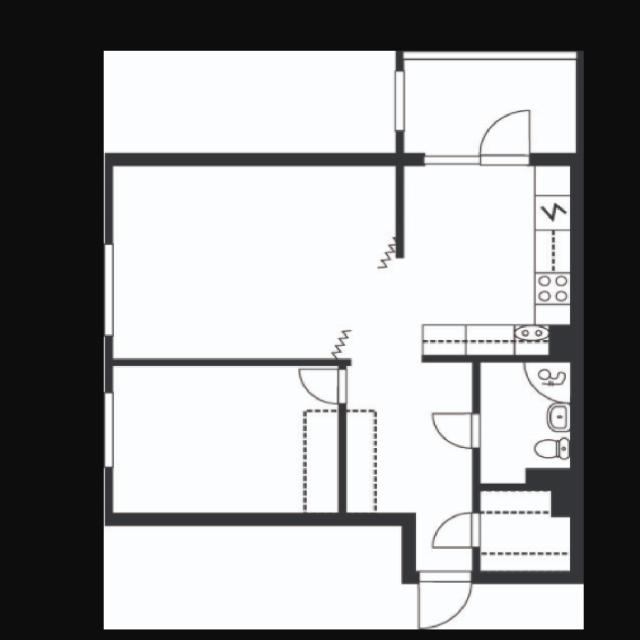door: (418, 572, 471, 629), (481, 110, 528, 164), (432, 512, 480, 548), (432, 413, 479, 449), (301, 369, 346, 404)
